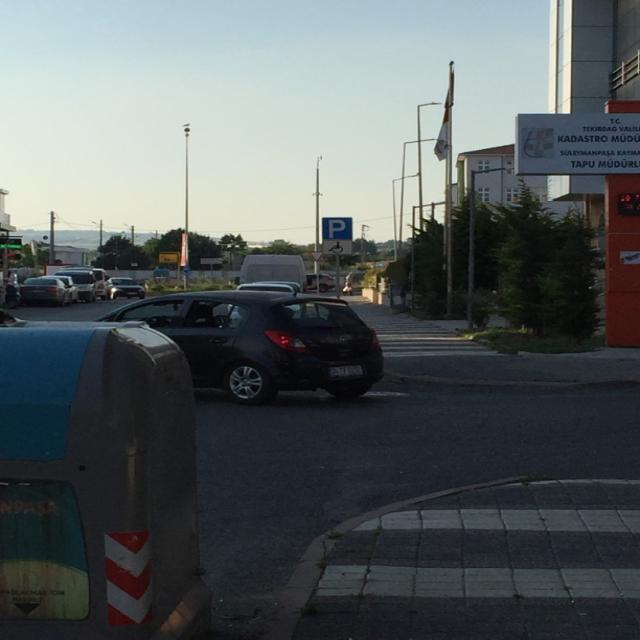park: (323, 218, 353, 240)
